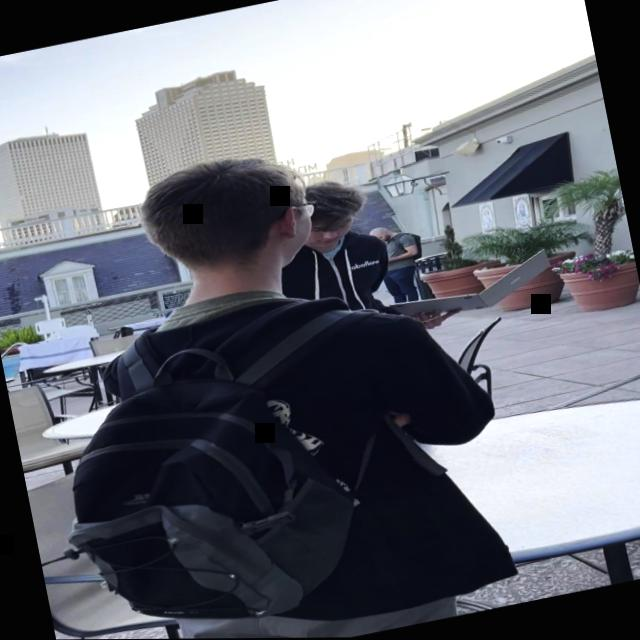NO-Mask: (270, 186, 318, 263), (308, 214, 362, 255), (371, 228, 392, 244)
